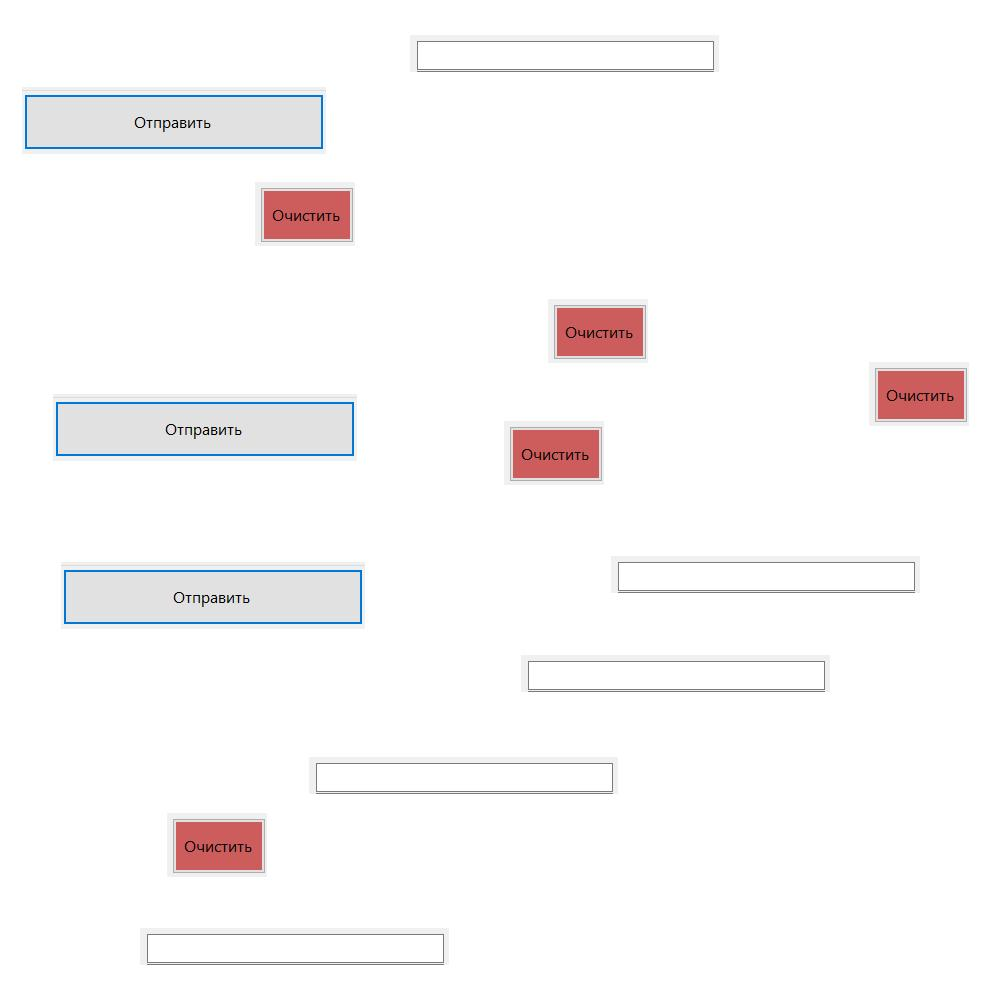Button: (61, 562, 365, 629), (22, 87, 326, 154), (53, 394, 357, 461), (504, 421, 604, 485), (167, 813, 267, 877), (869, 362, 969, 426), (255, 182, 355, 246), (548, 299, 648, 363)
EditText-: (140, 928, 449, 965), (410, 35, 719, 72), (611, 556, 920, 593), (521, 655, 830, 692), (309, 757, 618, 794)
